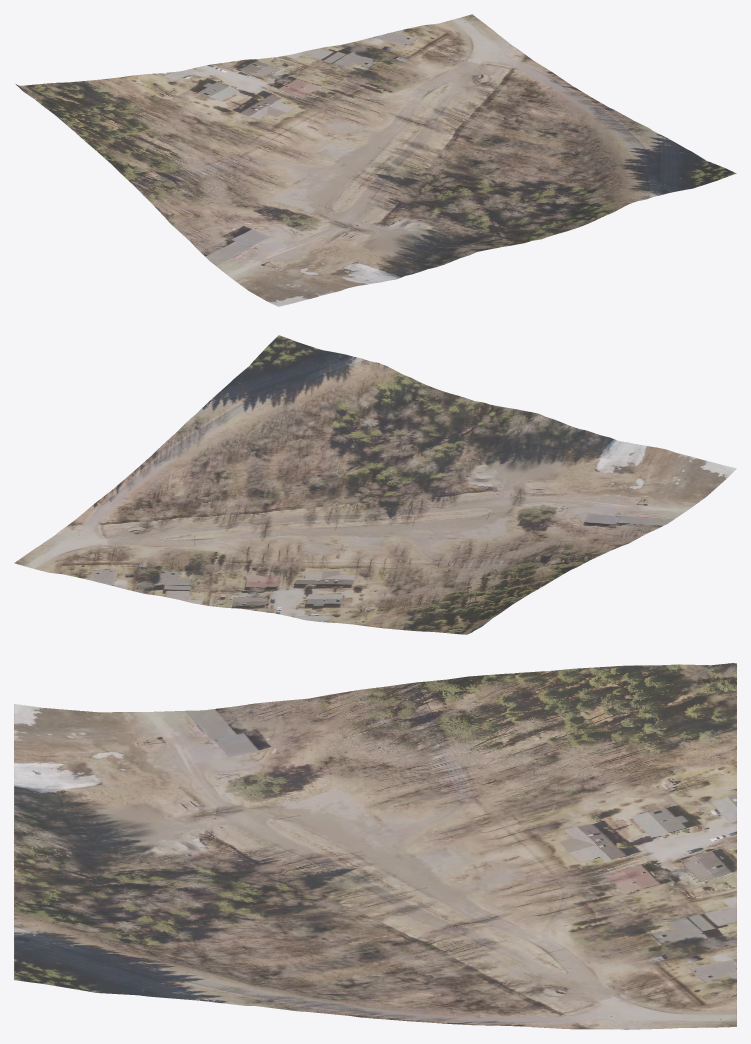
Rendered from CM_Terrain_24492097_6816927.fbx.
The picture shows the model from 3 angles, top to bottom: view 1: azimuth 30°, elevation 25°; view 2: azimuth 150°, elevation 25°; view 3: azimuth 270°, elevation 25°; orthographic projection. The views are drawn at different scales.
Parts seen in each view (by area): view 1: CM_Terrain_24492097_6816927_LOD0; view 2: CM_Terrain_24492097_6816927_LOD0; view 3: CM_Terrain_24492097_6816927_LOD0.
Boxes of the visible parts, <box> form: CM_Terrain_24492097_6816927_LOD0: <box>15,14,736,306</box>; CM_Terrain_24492097_6816927_LOD0: <box>14,335,736,634</box>; CM_Terrain_24492097_6816927_LOD0: <box>14,663,736,1029</box>.
Size of what is drawn, in the model's own units: 205 by 19.4 by 205.
